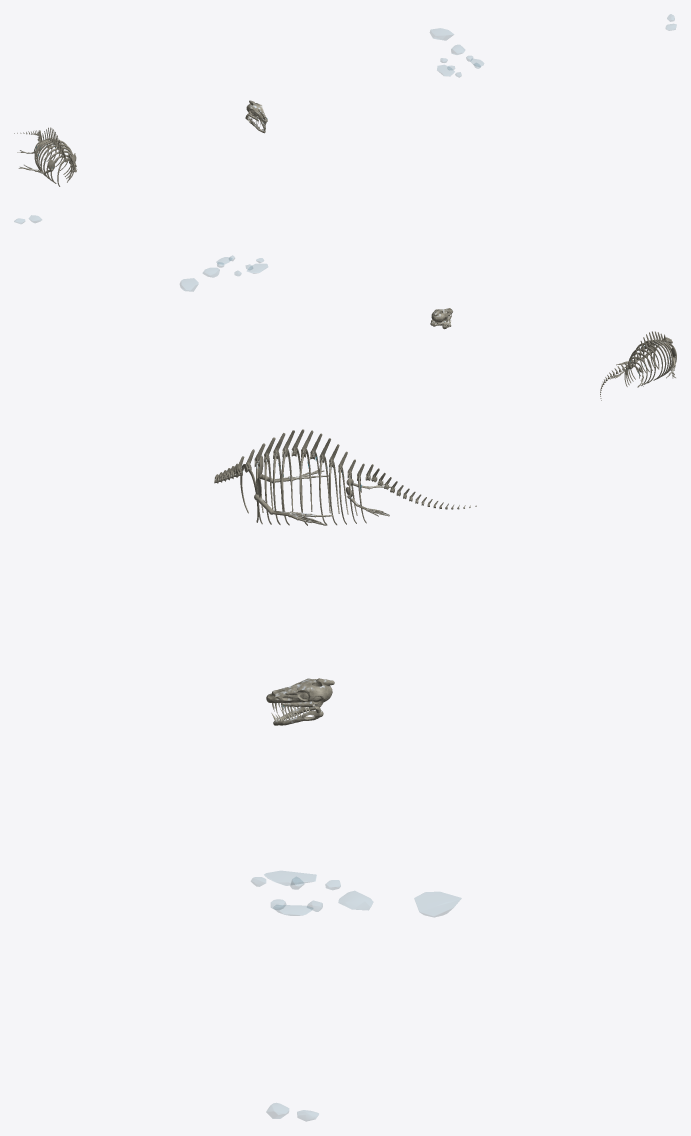
The model's file is Leviathan.gltf.
3 views of the same model, one above another, from view 1: azimuth 30°, elevation 25°; view 2: azimuth 150°, elevation 25°; view 3: azimuth 270°, elevation 25° (orthographic). The views are drawn at different scales.
Visible parts, largest first — view 1: Ribcage, RibIce, Skull; view 2: Ribcage, RibIce, Skull; view 3: Ribcage, RibIce, Skull.
Boxes of the visible parts, x1=… form: Ribcage: x1=14, y1=127, x2=77, y2=186; RibIce: x1=430, y1=28, x2=483, y2=77; Skull: x1=245, y1=100, x2=267, y2=133; Ribcage: x1=600, y1=331, x2=676, y2=400; RibIce: x1=180, y1=255, x2=267, y2=291; Skull: x1=430, y1=308, x2=452, y2=329; Ribcage: x1=214, y1=429, x2=476, y2=525; RibIce: x1=251, y1=871, x2=461, y2=916; Skull: x1=266, y1=678, x2=334, y2=725.
Bounding box in the file's own units: 128 × 9.12 × 22.33.
Materials: 4 (4 with a texture image).
